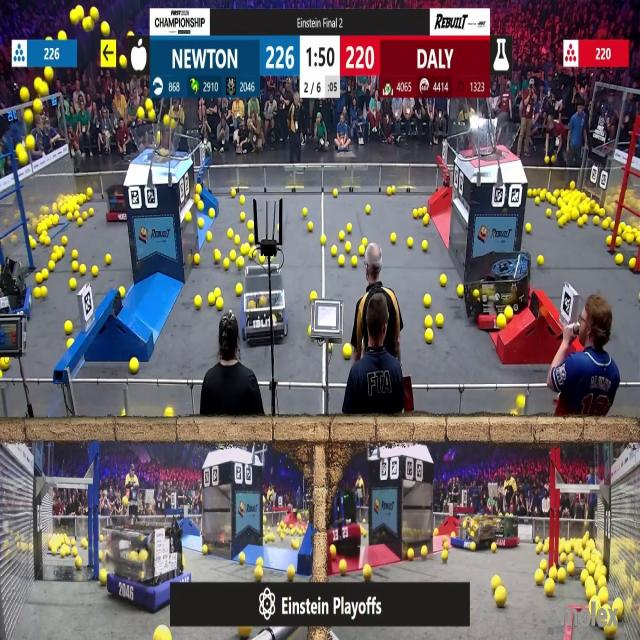ball_airborne: (17, 149, 27, 164), (39, 83, 48, 97), (70, 8, 79, 22), (82, 16, 91, 29), (27, 136, 35, 150), (22, 89, 30, 103), (44, 68, 52, 82), (102, 23, 110, 37), (26, 109, 34, 122), (34, 100, 42, 113), (138, 107, 146, 119), (92, 8, 100, 20), (145, 100, 153, 111), (118, 57, 125, 69), (147, 110, 155, 120), (35, 78, 42, 89), (60, 31, 67, 41), (165, 114, 171, 125), (170, 116, 176, 126), (122, 496, 127, 505)
ball_ground: (494, 588, 506, 608), (604, 625, 616, 640), (157, 627, 172, 639), (544, 581, 554, 598), (130, 357, 140, 372), (534, 570, 544, 584), (598, 590, 608, 604), (497, 315, 506, 329), (287, 565, 295, 579), (344, 345, 352, 359), (340, 560, 348, 574), (362, 565, 370, 579), (425, 328, 433, 342), (100, 571, 108, 585), (587, 586, 595, 600), (65, 321, 73, 334), (0, 357, 8, 370), (435, 314, 443, 327), (629, 257, 637, 270), (558, 569, 566, 582), (492, 575, 500, 588), (504, 308, 512, 321), (254, 567, 262, 579), (426, 316, 434, 328), (518, 395, 526, 407), (215, 296, 222, 309), (237, 256, 245, 267), (570, 209, 578, 220), (566, 563, 574, 574), (424, 294, 431, 306), (214, 250, 221, 262), (329, 543, 336, 555), (579, 571, 586, 583), (166, 409, 174, 419), (546, 567, 554, 577), (598, 576, 606, 586), (93, 267, 100, 278), (408, 550, 415, 561), (248, 234, 255, 245), (345, 242, 352, 253), (421, 545, 428, 556), (34, 287, 41, 298), (237, 284, 243, 296), (194, 295, 200, 307), (458, 285, 464, 297), (442, 275, 448, 287), (240, 553, 246, 565), (223, 260, 229, 272), (628, 234, 634, 246), (617, 254, 624, 264), (36, 274, 43, 284), (42, 270, 49, 280), (539, 560, 546, 570), (558, 217, 565, 227), (59, 247, 66, 257), (340, 255, 346, 266), (193, 253, 199, 264), (70, 279, 76, 290), (208, 293, 214, 304), (72, 249, 78, 260), (79, 266, 85, 277), (423, 214, 429, 225), (242, 245, 248, 256), (291, 539, 298, 548), (560, 554, 567, 563), (537, 254, 543, 264), (408, 238, 414, 248), (352, 256, 358, 266), (48, 262, 54, 272), (443, 552, 449, 562), (390, 234, 396, 244), (422, 241, 428, 251), (72, 263, 78, 273), (227, 230, 233, 240), (76, 558, 82, 568), (311, 290, 317, 300), (214, 287, 220, 297), (40, 287, 46, 297), (545, 208, 551, 218), (526, 222, 532, 232), (185, 212, 191, 222), (210, 208, 216, 218), (199, 218, 205, 228), (248, 220, 254, 230), (68, 339, 74, 349), (363, 206, 370, 214), (248, 302, 255, 310), (119, 286, 124, 297), (491, 542, 497, 551), (340, 232, 346, 241), (347, 223, 353, 232), (259, 254, 265, 263), (358, 247, 364, 256), (617, 238, 623, 247), (577, 217, 583, 226), (303, 208, 309, 217), (231, 250, 237, 259), (240, 212, 246, 221), (413, 209, 419, 218), (235, 236, 241, 245), (72, 546, 78, 555), (194, 184, 200, 193), (68, 212, 74, 221), (74, 210, 80, 219), (106, 254, 111, 264), (204, 543, 209, 553), (320, 236, 325, 246), (31, 240, 36, 250), (256, 558, 262, 566), (594, 216, 600, 224), (62, 237, 68, 245), (469, 542, 475, 550), (534, 198, 540, 206), (602, 220, 608, 228), (556, 210, 562, 218), (42, 237, 48, 245), (199, 203, 205, 211), (78, 218, 84, 226), (361, 529, 367, 537), (81, 540, 87, 548), (82, 210, 88, 218), (331, 246, 336, 255), (606, 237, 611, 246), (387, 186, 392, 195), (331, 189, 337, 196), (422, 207, 428, 214), (309, 222, 314, 230), (445, 541, 450, 549), (89, 188, 94, 196), (543, 157, 548, 165), (194, 193, 199, 201), (50, 252, 55, 260), (542, 544, 547, 552), (208, 233, 212, 242), (100, 552, 104, 561), (536, 544, 540, 553), (636, 237, 640, 246), (90, 209, 95, 216), (232, 189, 237, 196), (71, 538, 76, 545), (528, 188, 532, 196), (241, 197, 245, 205), (248, 252, 252, 260), (327, 344, 331, 352), (120, 412, 125, 418), (362, 239, 366, 246), (0, 370, 4, 377), (433, 528, 437, 535), (264, 515, 268, 522), (280, 534, 284, 541), (100, 535, 104, 541)
goal: (464, 121, 521, 160), (128, 128, 187, 161)
robot_blue: (105, 520, 191, 613), (245, 269, 292, 348), (0, 258, 32, 318), (452, 514, 494, 550)
robot_red: (468, 254, 530, 331), (492, 514, 522, 548), (105, 186, 127, 224)
